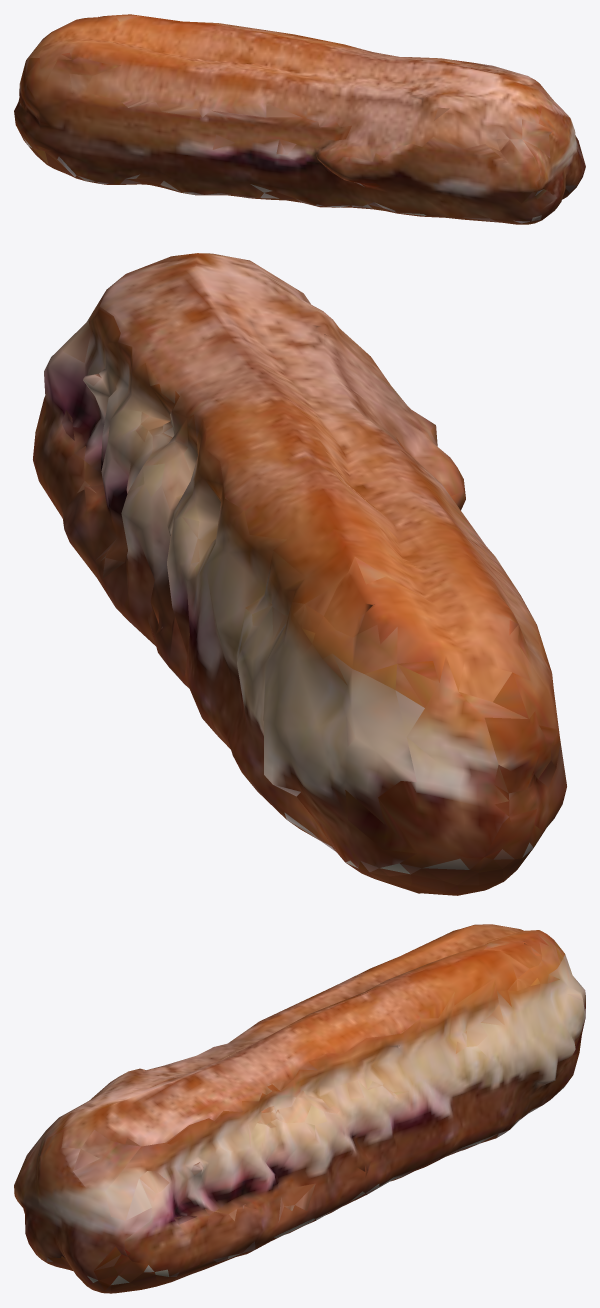
The model's file is eclaire_2186.obj.
3 renders of one model, top to bottom at view 1: azimuth 30°, elevation 25°; view 2: azimuth 150°, elevation 25°; view 3: azimuth 270°, elevation 25°, orthographic. The views are drawn at different scales.
Size of the model in its own units: 93.88 by 31.74 by 91.26.
1 material, 1 textured.
